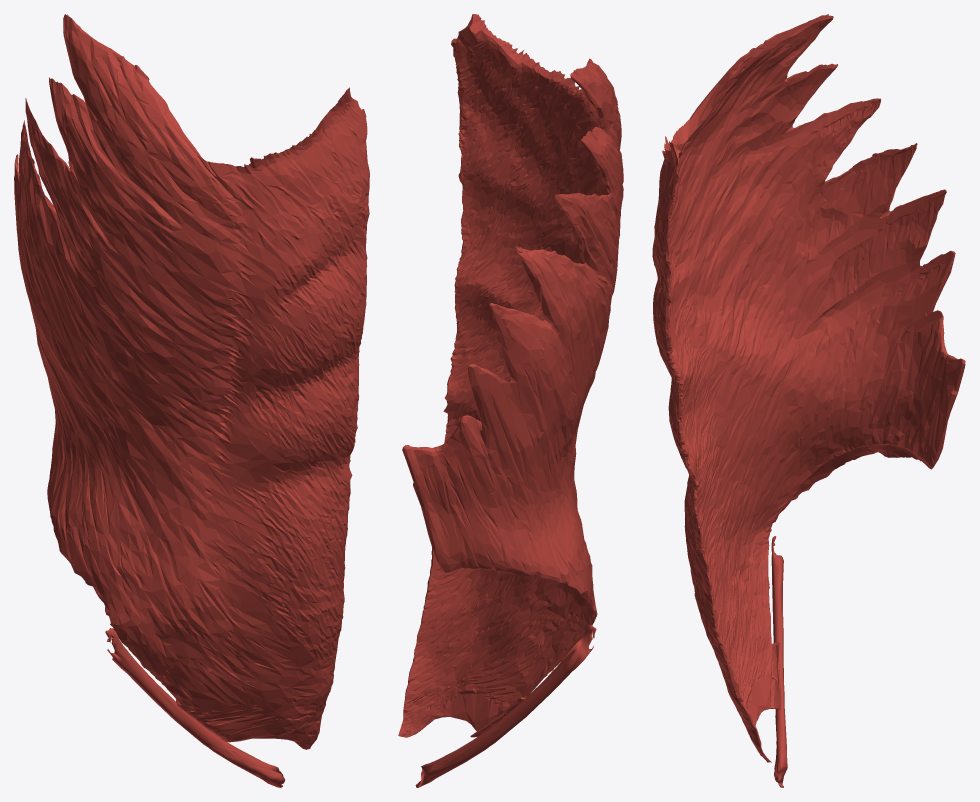
File: musculos-external-abdominal-oblique-muscle-r.glb
3 renders of one model, left to right at view 1: azimuth 30°, elevation 25°; view 2: azimuth 150°, elevation 25°; view 3: azimuth 270°, elevation 25°, orthographic. The views are drawn at different scales.
Visible parts, largest first — view 1: External abdominal oblique muscle.r, Inguinal ligament.r; view 2: External abdominal oblique muscle.r, Inguinal ligament.r; view 3: External abdominal oblique muscle.r, Inguinal ligament.r.
Boxes of the visible parts, <box> form: External abdominal oblique muscle.r: <box>14,14,369,749</box>; Inguinal ligament.r: <box>105,628,284,787</box>; External abdominal oblique muscle.r: <box>398,14,623,737</box>; Inguinal ligament.r: <box>415,625,596,787</box>; External abdominal oblique muscle.r: <box>652,14,965,762</box>; Inguinal ligament.r: <box>771,536,787,787</box>.
Bounding box in the file's own units: 0.1362 × 0.4408 × 0.18.
